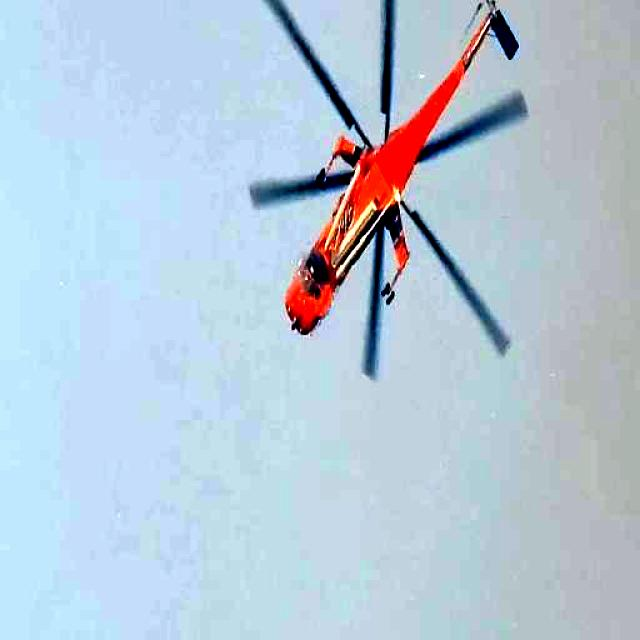drone: (234, 0, 536, 404)
